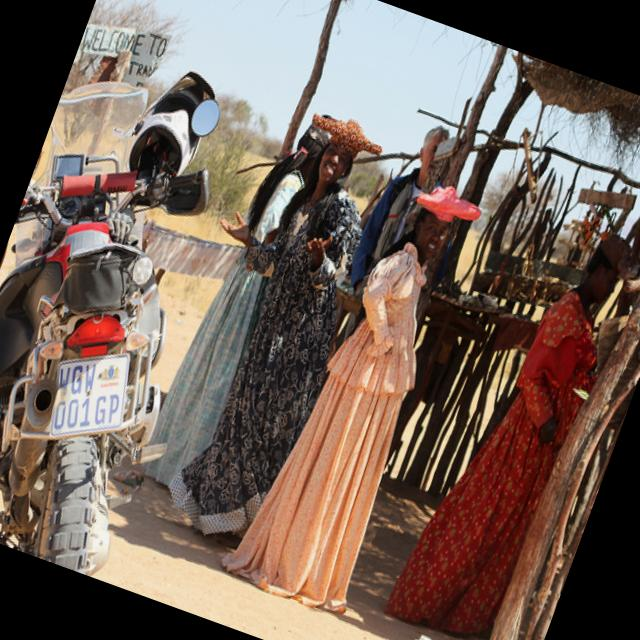Vehicle: (0, 20, 303, 588)
